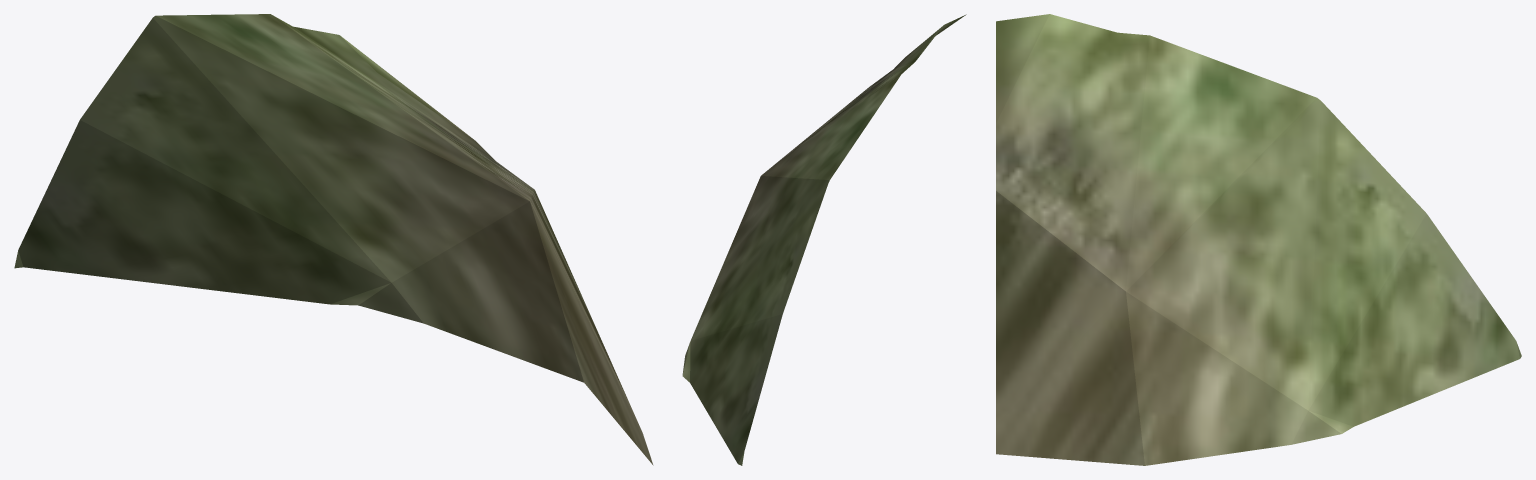
The picture shows the model from 3 angles, left to right: view 1: azimuth 30°, elevation 25°; view 2: azimuth 150°, elevation 25°; view 3: azimuth 270°, elevation 25°; orthographic projection. The views are drawn at different scales.
Bounding box in the file's own units: 0.5699 × 0.8279 × 1.15.
Materials: 1 (1 with a texture image).
